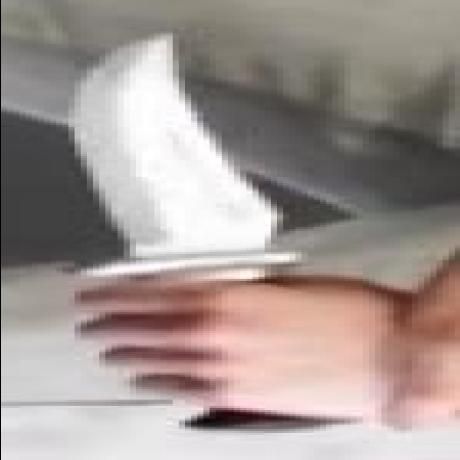1: (66, 274, 460, 432)
weapon: (63, 33, 312, 289)
